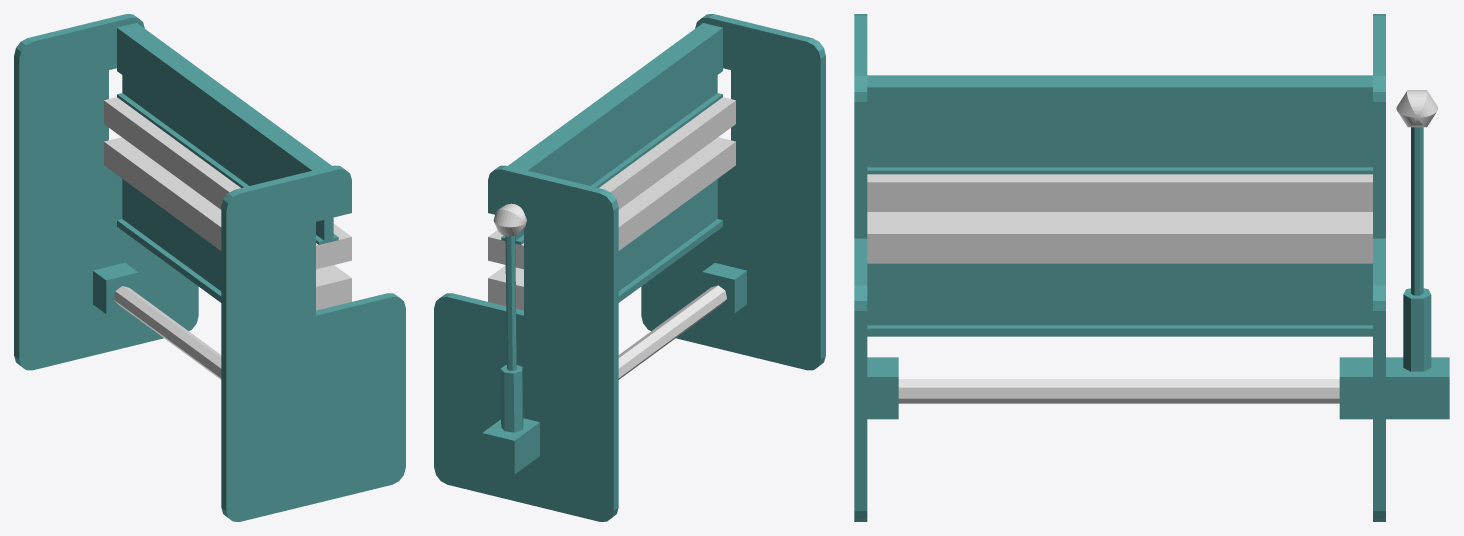
Rendered from faltbankGLTF.gltf.
3 views of the same model, side by side, from view 1: azimuth 30°, elevation 25°; view 2: azimuth 150°, elevation 25°; view 3: azimuth 270°, elevation 25° (orthographic). The views are drawn at different scales.
Visible parts, largest first — view 1: links, rechts, mitte_oben, pressplatte, pressplatte.001, mitte_unten.002, mitte_unten.001, Cylinder, Cube; view 2: rechts, links, mitte_oben, pressplatte, mitte_unten.002, pressplatte.001, mitte_unten.001, stange, Cylinder, Cube, Cube.001, Sphere; view 3: mitte_unten.002, mitte_oben, pressplatte, pressplatte.001, mitte_unten.001, Cylinder, links, rechts, Cube, stange, Cube.001, Sphere.
Boxes of the visible parts, x1,y1,x2,y2 form: links: (221, 165, 405, 521); rechts: (14, 14, 198, 370); mitte_oben: (117, 23, 331, 180); pressplatte: (104, 137, 351, 310); pressplatte.001: (104, 97, 351, 269); mitte_unten.002: (117, 179, 221, 302); mitte_unten.001: (117, 68, 338, 244); Cylinder: (113, 286, 221, 379); Cube: (93, 263, 138, 313); rechts: (434, 165, 618, 521); links: (641, 14, 825, 370); mitte_oben: (508, 23, 722, 180); pressplatte: (488, 137, 735, 310); mitte_unten.002: (618, 179, 722, 302); pressplatte.001: (488, 97, 735, 269); mitte_unten.001: (501, 68, 722, 244); stange: (500, 235, 523, 432); Cylinder: (618, 285, 726, 379); Cube: (482, 418, 539, 474); Cube.001: (702, 263, 746, 313); Sphere: (493, 203, 526, 236); mitte_unten.002: (867, 263, 1372, 336); mitte_oben: (867, 75, 1372, 137); pressplatte: (867, 212, 1372, 263); pressplatte.001: (867, 174, 1372, 211); mitte_unten.001: (867, 138, 1372, 174); Cylinder: (898, 379, 1339, 403); links: (854, 14, 867, 521); rechts: (1373, 14, 1385, 521); Cube: (1339, 357, 1449, 419); stange: (1403, 127, 1431, 371); Cube.001: (867, 357, 898, 419); Sphere: (1396, 90, 1438, 127).
Size of the model in its own units: 2 by 3.5 by 4.59.
